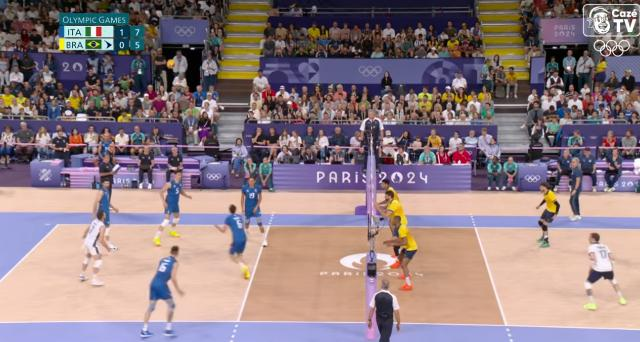Levantador: (215, 204, 251, 280), (534, 182, 560, 248)
Libero: (582, 234, 628, 312), (79, 212, 111, 286)
bola: (166, 58, 178, 72)
